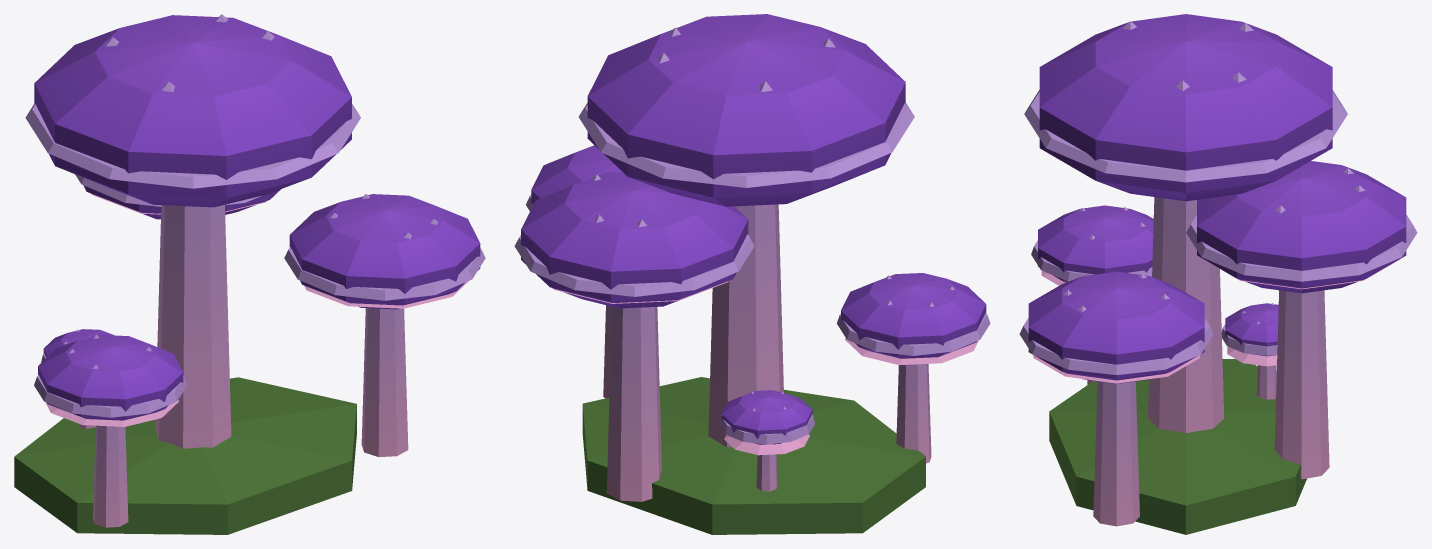
File: neon_mushrooms_violet.glb
3 renders of one model, left to right at view 1: azimuth 30°, elevation 25°; view 2: azimuth 150°, elevation 25°; view 3: azimuth 270°, elevation 25°, orthographic. The views are drawn at different scales.
Visible parts, largest first — view 1: neon_mushrooms_violet; view 2: neon_mushrooms_violet; view 3: neon_mushrooms_violet.
Boxes of the visible parts, x1=… form: neon_mushrooms_violet: x1=14, y1=14, x2=485, y2=534; neon_mushrooms_violet: x1=514, y1=14, x2=990, y2=534; neon_mushrooms_violet: x1=1019, y1=14, x2=1417, y2=534.
Size of the model in its own units: 2.09 by 2.05 by 1.72.
